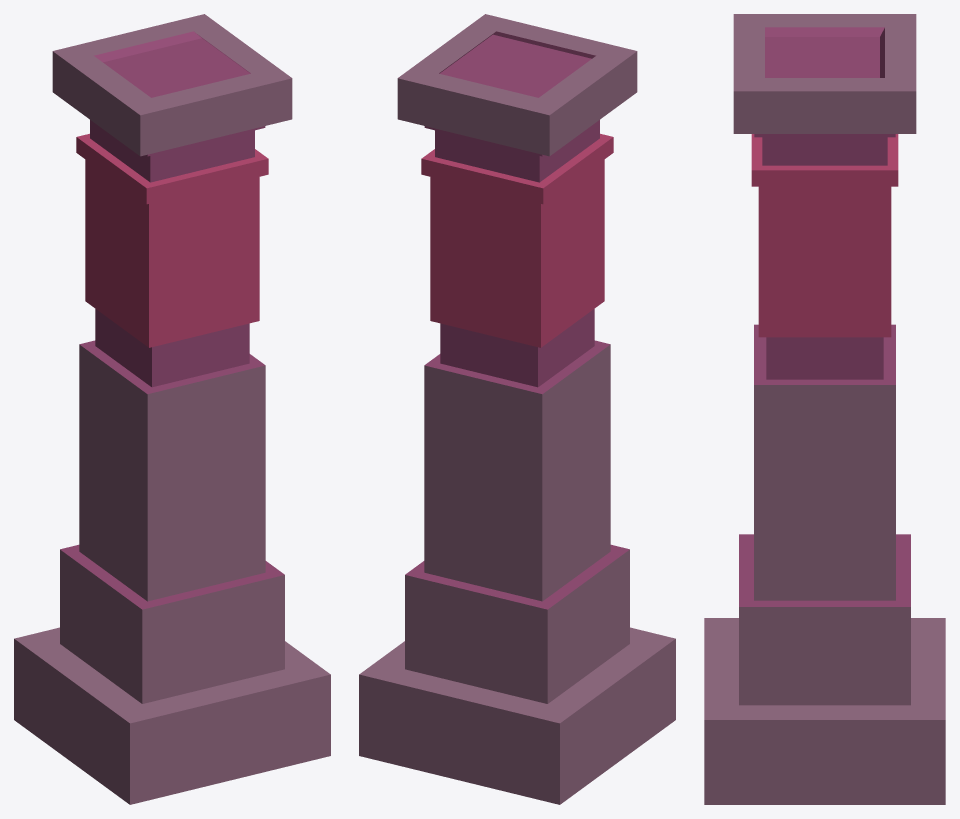
Rendered from Small piller.fbx.
The picture shows the model from 3 angles, left to right: view 1: azimuth 30°, elevation 25°; view 2: azimuth 150°, elevation 25°; view 3: azimuth 270°, elevation 25°; orthographic projection. The views are drawn at different scales.
Parts seen in each view (by area): view 1: Cube; view 2: Cube; view 3: Cube.
Boxes of the visible parts, <box> form: Cube: <box>14,14,330,804</box>; Cube: <box>359,14,675,804</box>; Cube: <box>704,14,945,804</box>.
Size of the model in its own units: 200 by 641 by 200.
